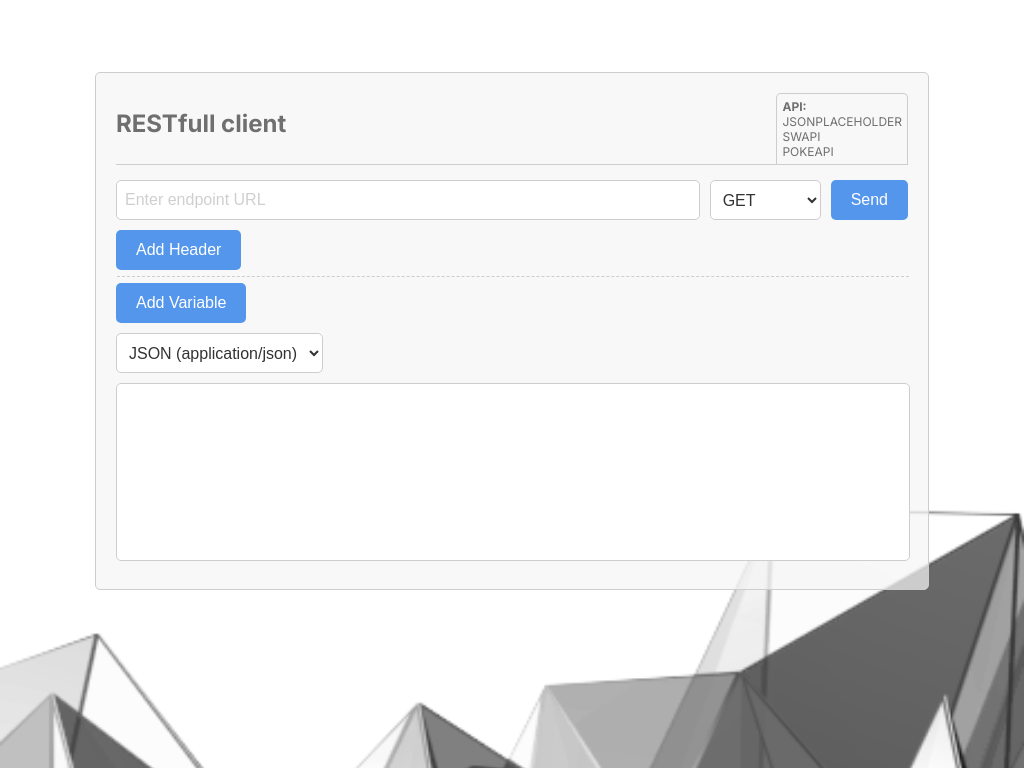
Test: RestClient Component › updates the URL input when API is clicked
Click the text "JSONPLACEHOLDER" at x=842, y=122, box [782, 114, 902, 129]
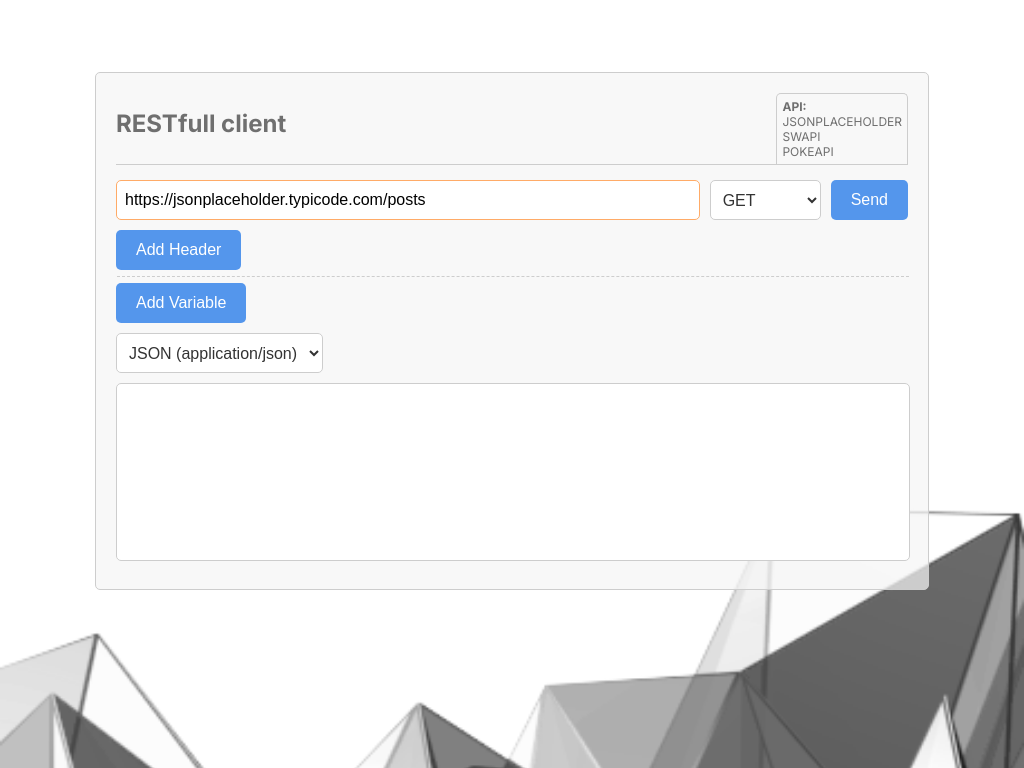
Expected: the field with placeholder "Enter endpoint URL" holds "https://jsonplaceholder.typicode.com/posts", [116, 180, 700, 220]
